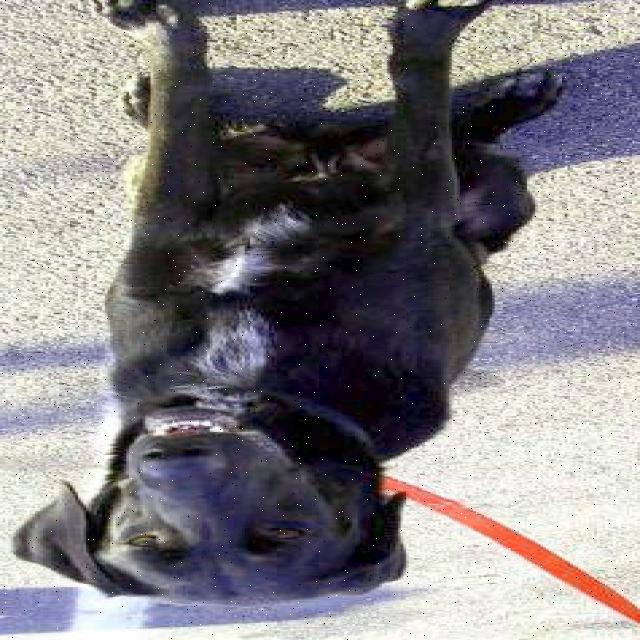Dog: (8, 396, 414, 609)
